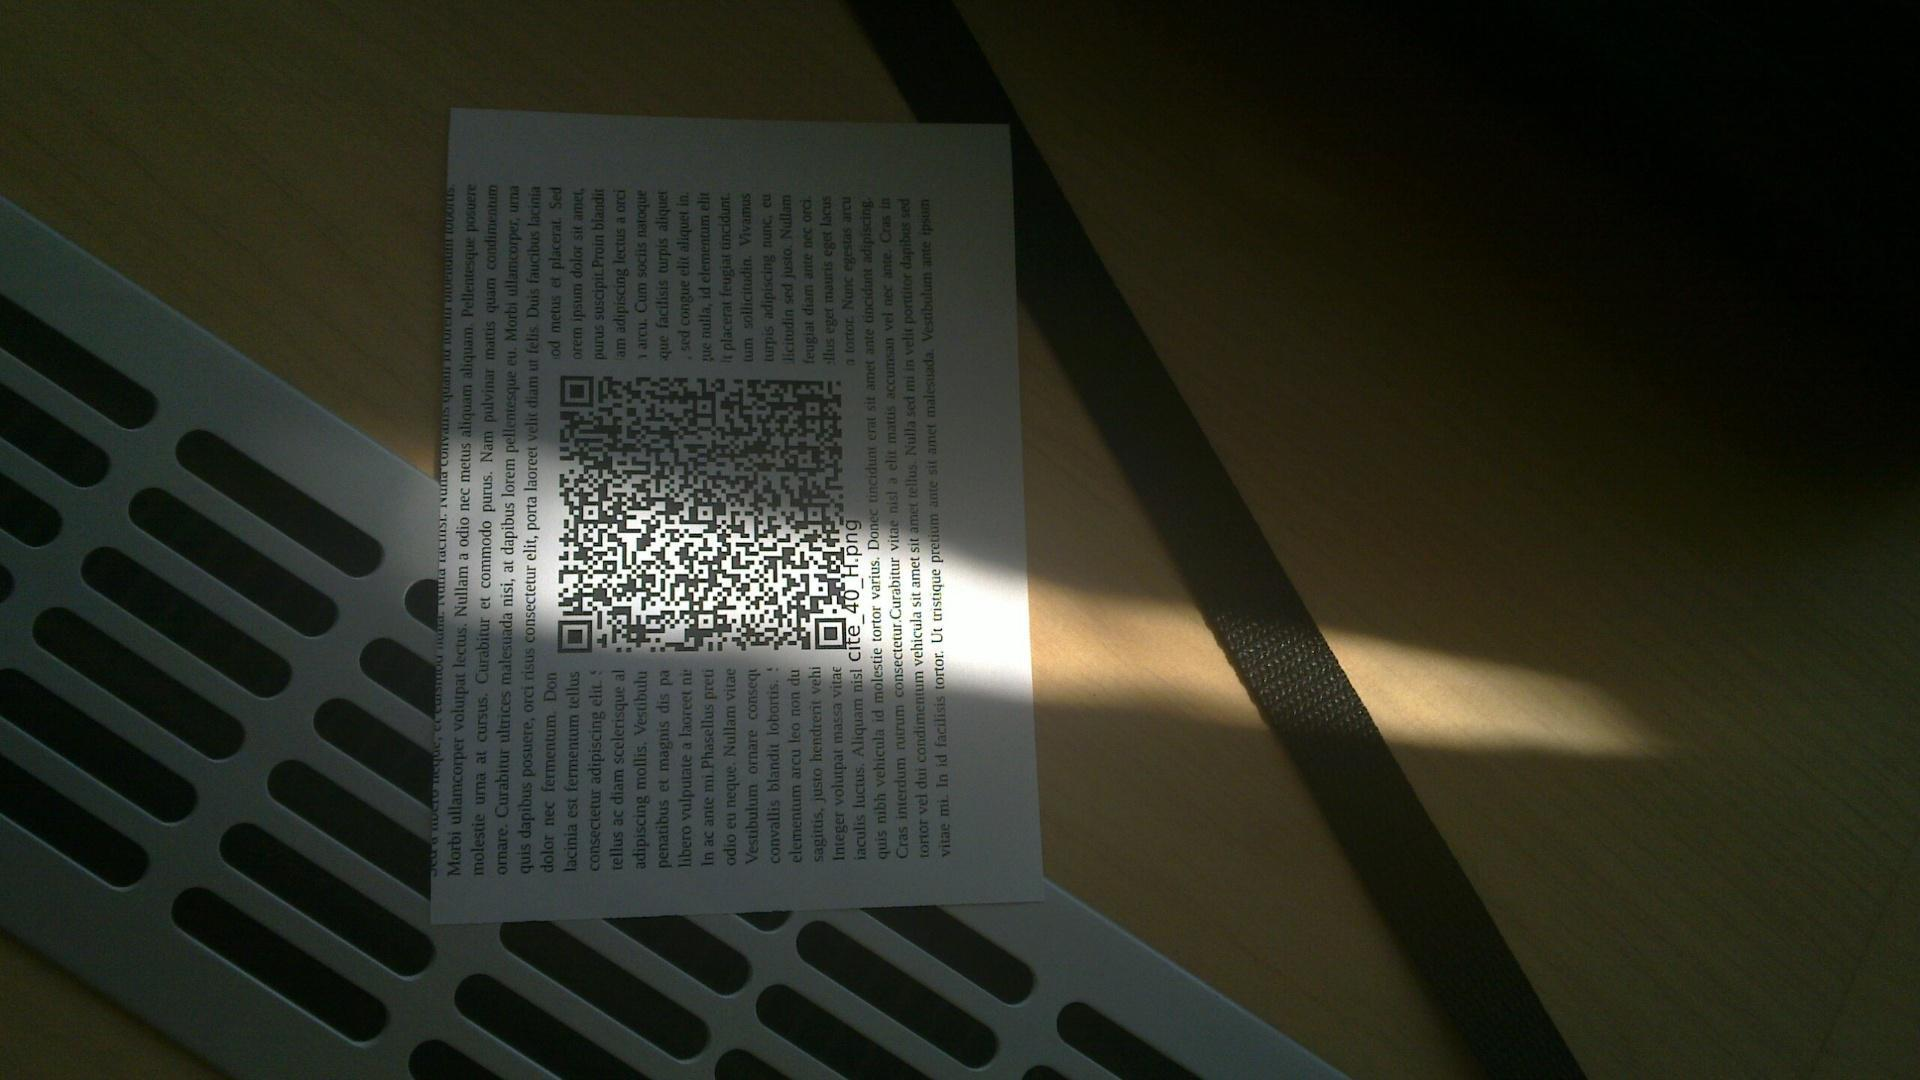Finder pattern: (808, 613, 852, 655), (554, 371, 597, 410), (554, 618, 596, 655)
